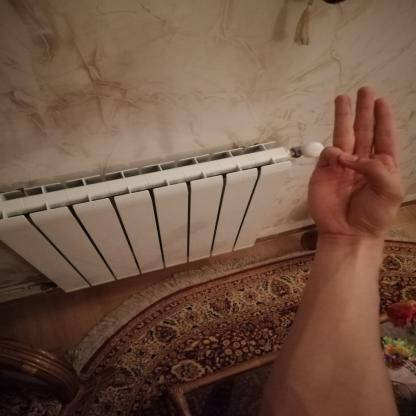THA: (289, 78, 414, 251)
